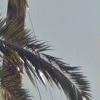Palm tree: (6, 6, 65, 83)
